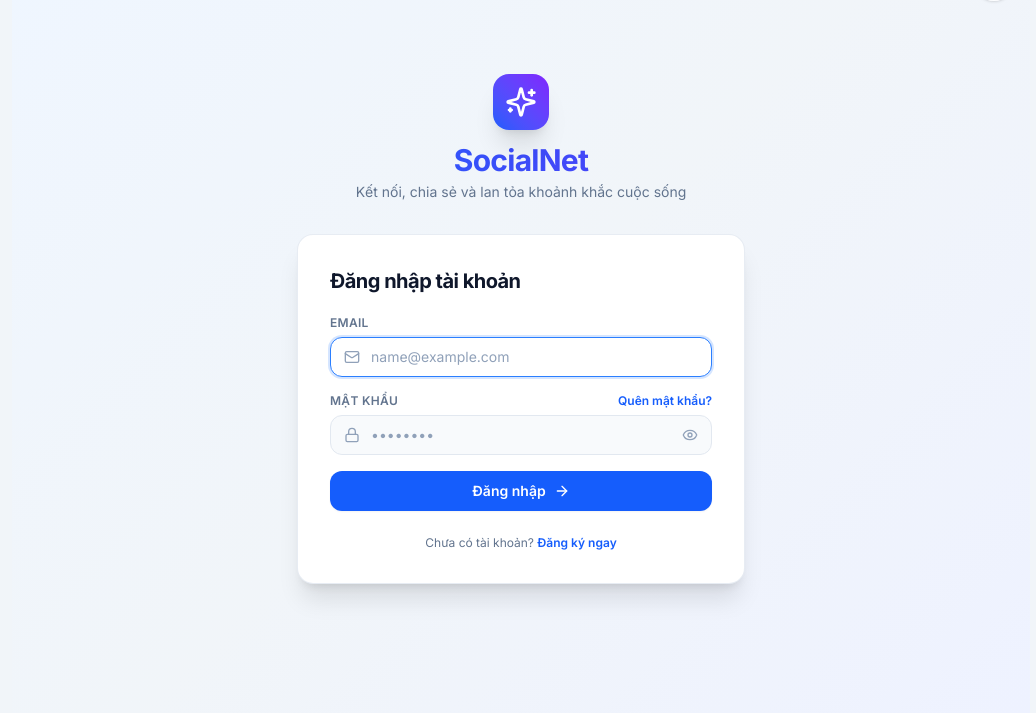
Scenario: Đăng nhập › sai mật khẩu → hiện lỗi, vẫn ở trang đăng nhập
Type "u1@test.vn" into the field labelled "Email" at (521, 357), box [330,337,712,377]
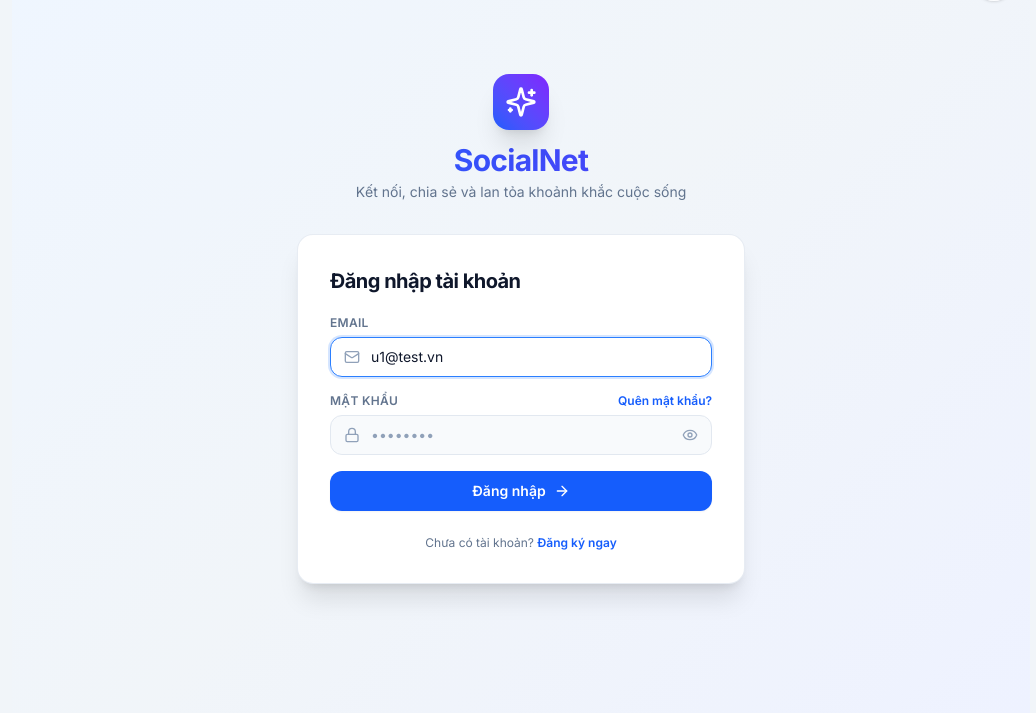
Type "sai-mat-khau" into the password field labelled "Mật khẩu" at (521, 435), box [330,415,712,455]
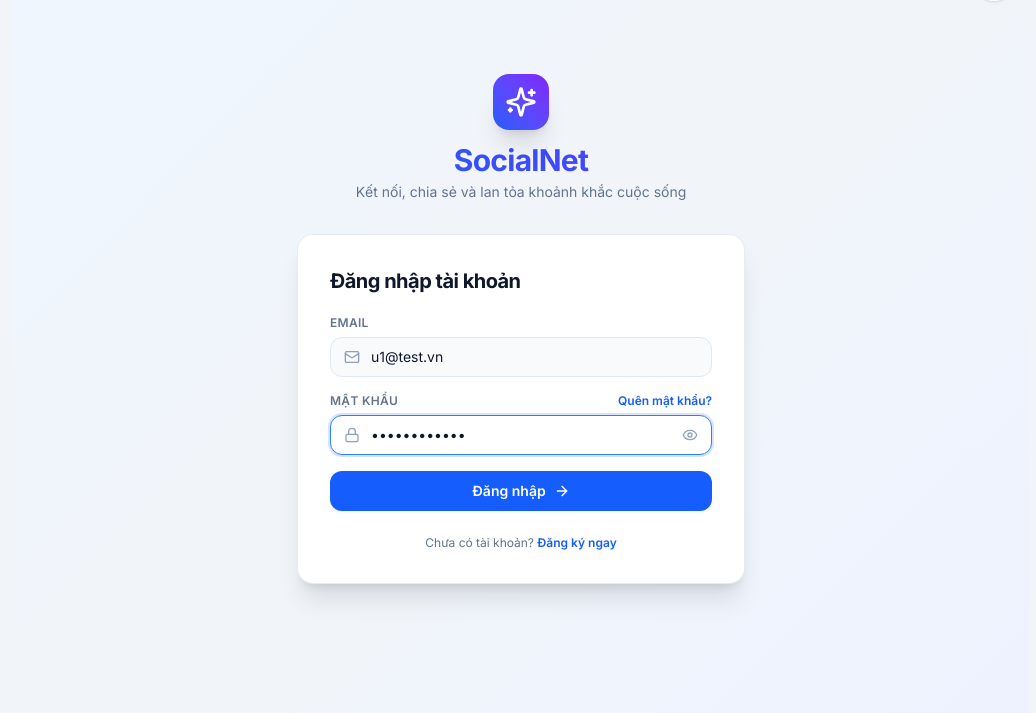
Click the button "Đăng nhập" at (521, 491), box [330,471,712,511]
(page scrolled)
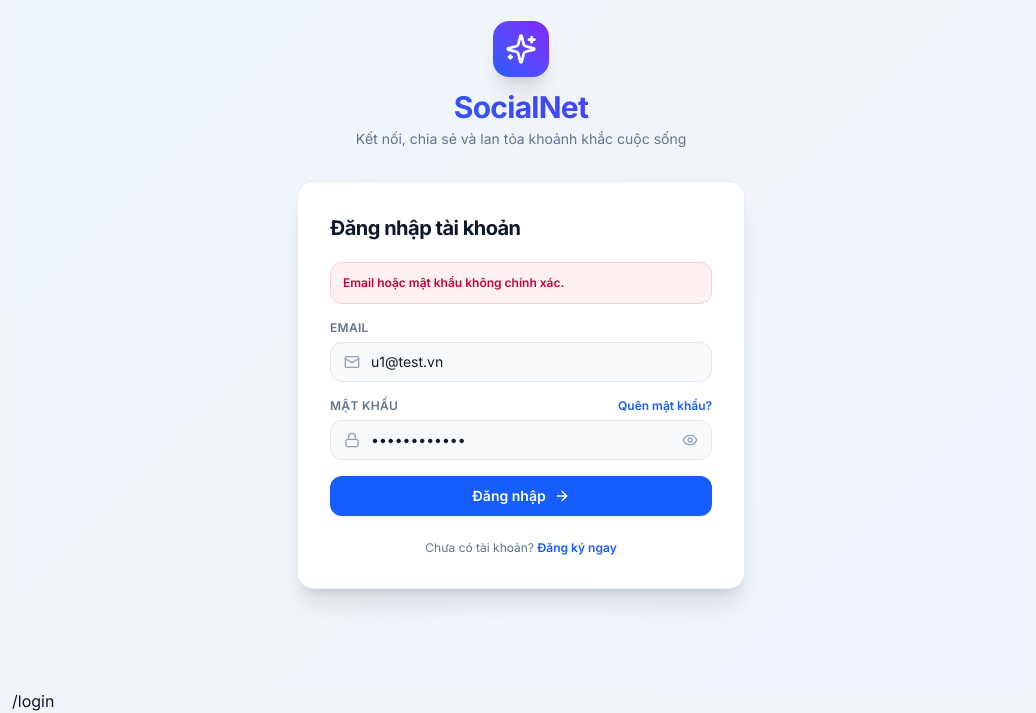
Check: the text with test id "location" reads "/login", box [12,691,54,711]
Check: the message reads "Email hoặc mật khẩu không chính xác.", box [343,275,564,290]
